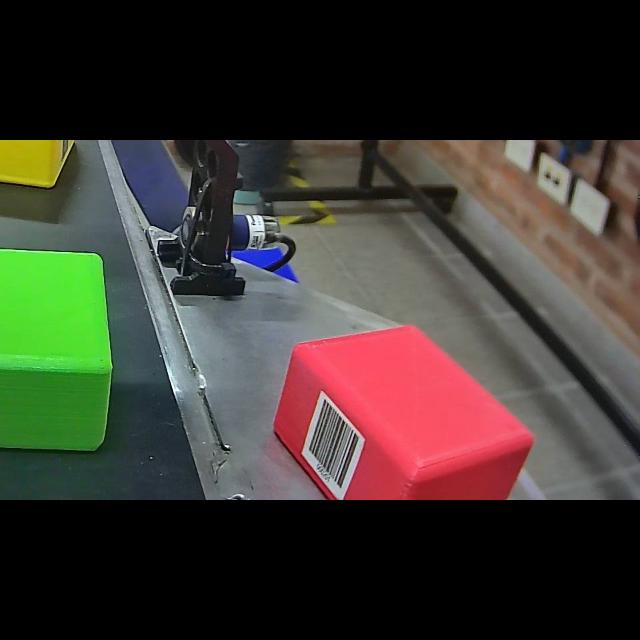greenBox: (0, 240, 116, 462)
redBox: (268, 316, 542, 499)
yellowBox: (0, 140, 84, 196)
